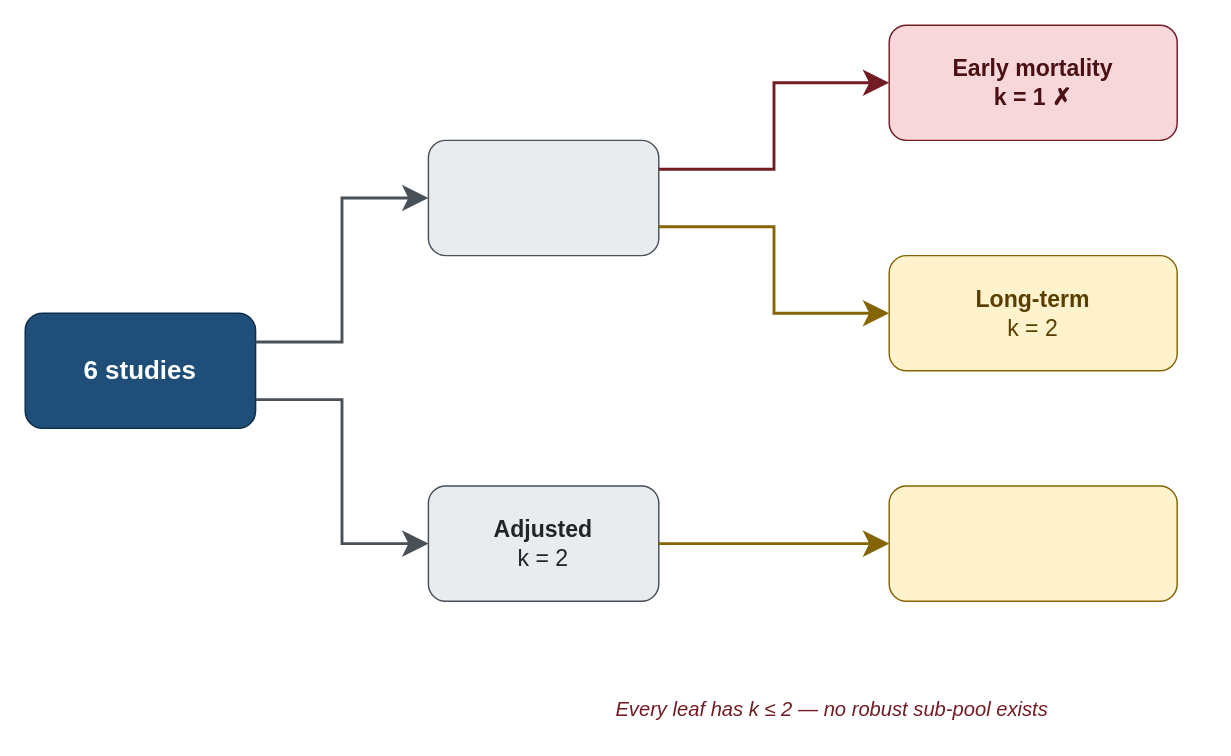
Some shapes in this 1231 by 756 pixel diagram are drawn without their labels. Here are the shapes that lost their labels. From the top down, the centre of each, then its label:
(543,197): Crude k = 4
(1032,543): Mansoor + Canet k = 2
